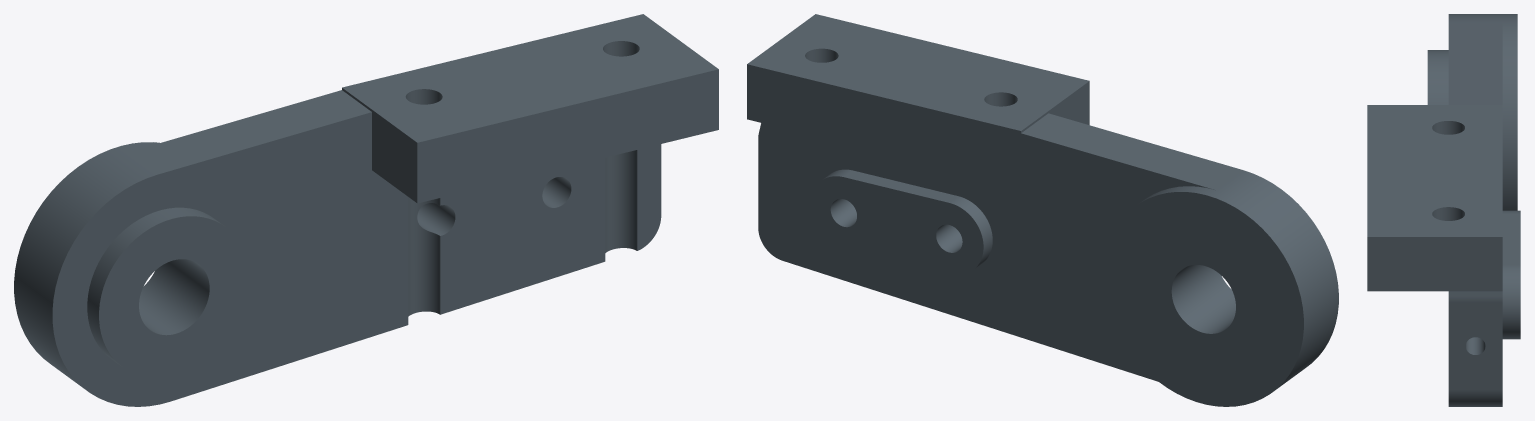
Rendered from dropout_left.glb.
The picture shows the model from 3 angles, left to right: view 1: azimuth 30°, elevation 25°; view 2: azimuth 150°, elevation 25°; view 3: azimuth 270°, elevation 25°; orthographic projection. The views are drawn at different scales.
Parts seen in each view (by area): view 1: dropout_left; view 2: dropout_left; view 3: dropout_left.
Boxes of the visible parts, x1,y1,x2,y2 form: dropout_left: (14, 14, 718, 406); dropout_left: (747, 14, 1338, 406); dropout_left: (1367, 14, 1520, 406).
Size of the model in its own units: 107 by 40.07 by 25.55.
